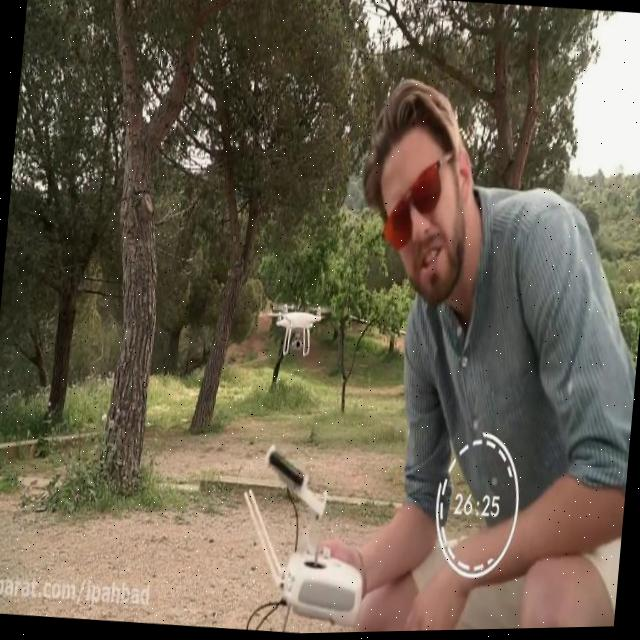drone: (262, 293, 334, 362)
